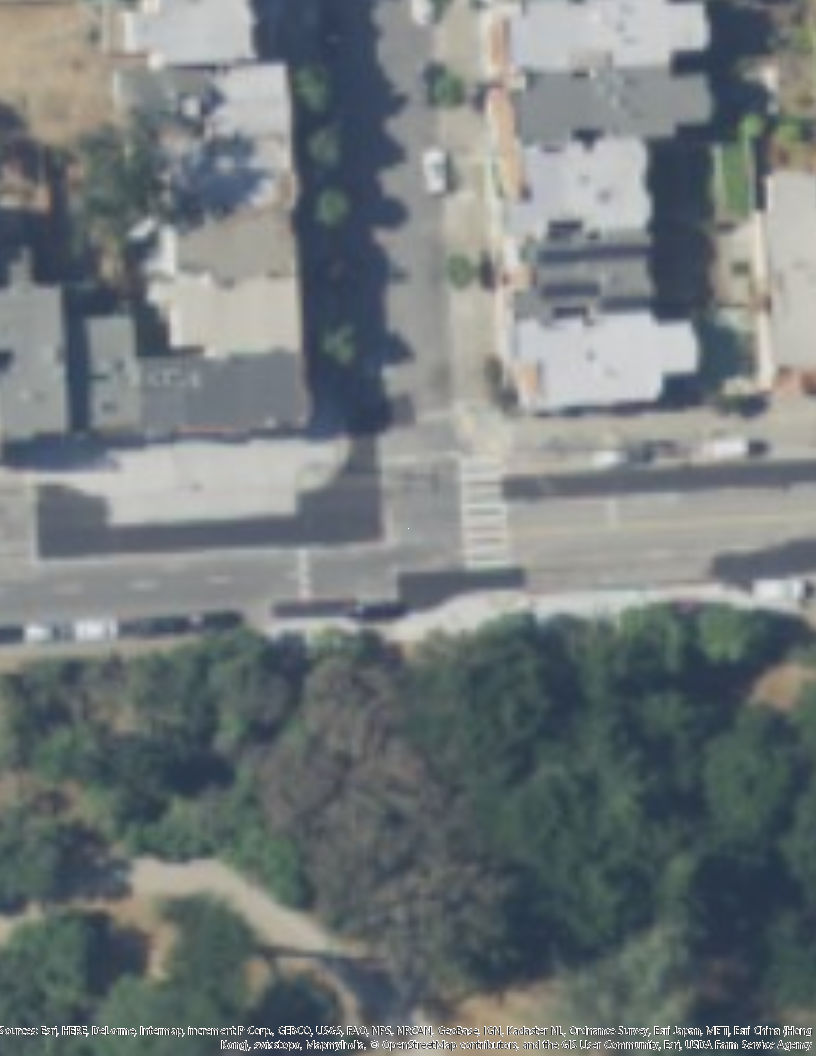zebracross: (460, 456, 512, 572)
